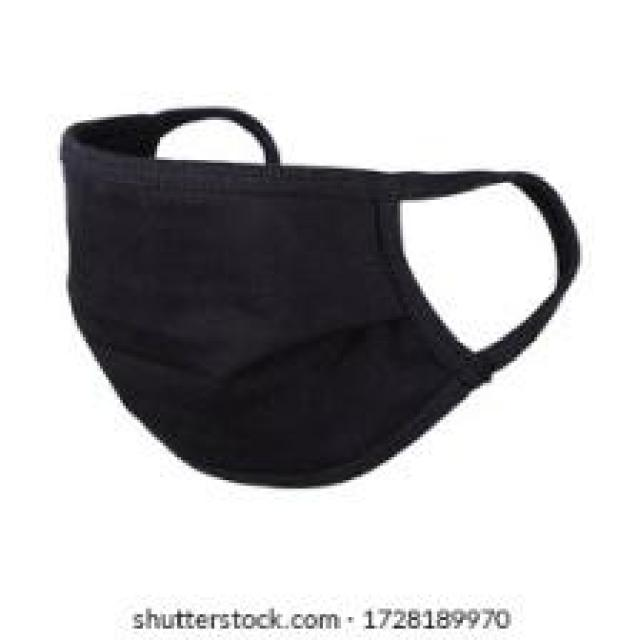Mask: (54, 112, 601, 522)
